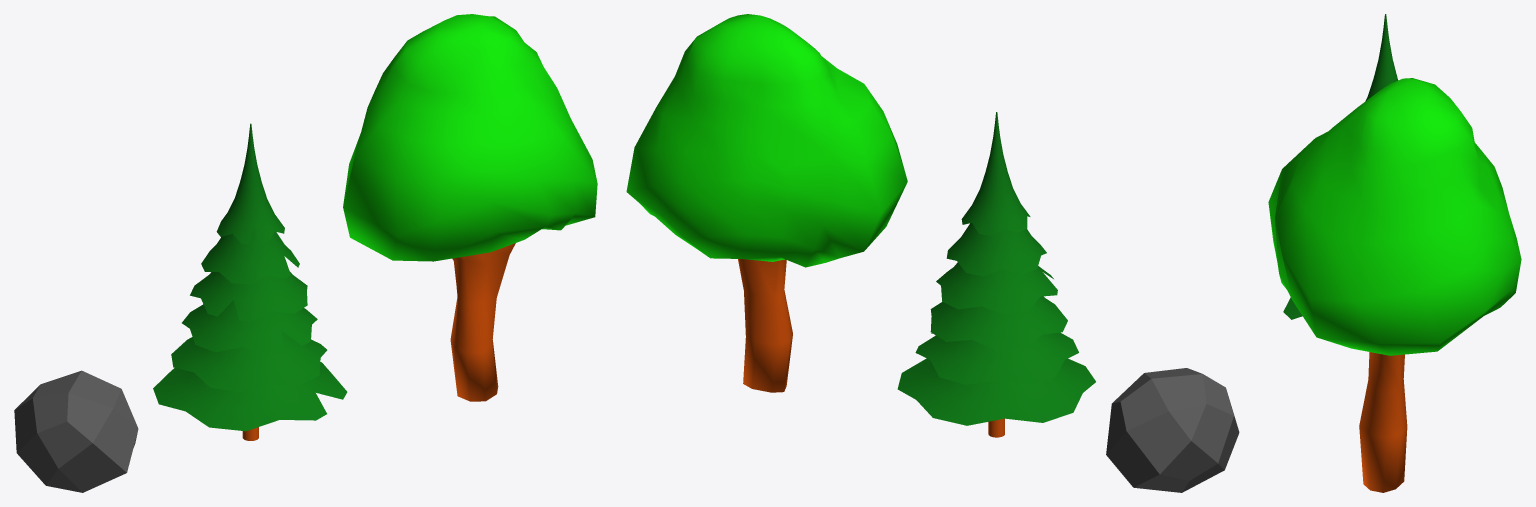
The model's file is trees.fbx.
3 renders of one model, left to right at view 1: azimuth 30°, elevation 25°; view 2: azimuth 150°, elevation 25°; view 3: azimuth 270°, elevation 25°, orthographic. The views are drawn at different scales.
Parts seen in each view (by area): view 1: tree2, tree1, rock; view 2: tree2, tree1, rock; view 3: tree2, tree1.
Part boxes in pixels (<box>): tree2: <box>343,14,597,401</box>; tree1: <box>153,123,347,440</box>; rock: <box>14,370,138,492</box>; tree2: <box>626,14,907,392</box>; tree1: <box>897,112,1095,437</box>; rock: <box>1106,368,1239,492</box>; tree2: <box>1268,78,1521,492</box>; tree1: <box>1283,14,1398,319</box>.
Bounding box in the file's own units: 1196 × 746 × 434.
